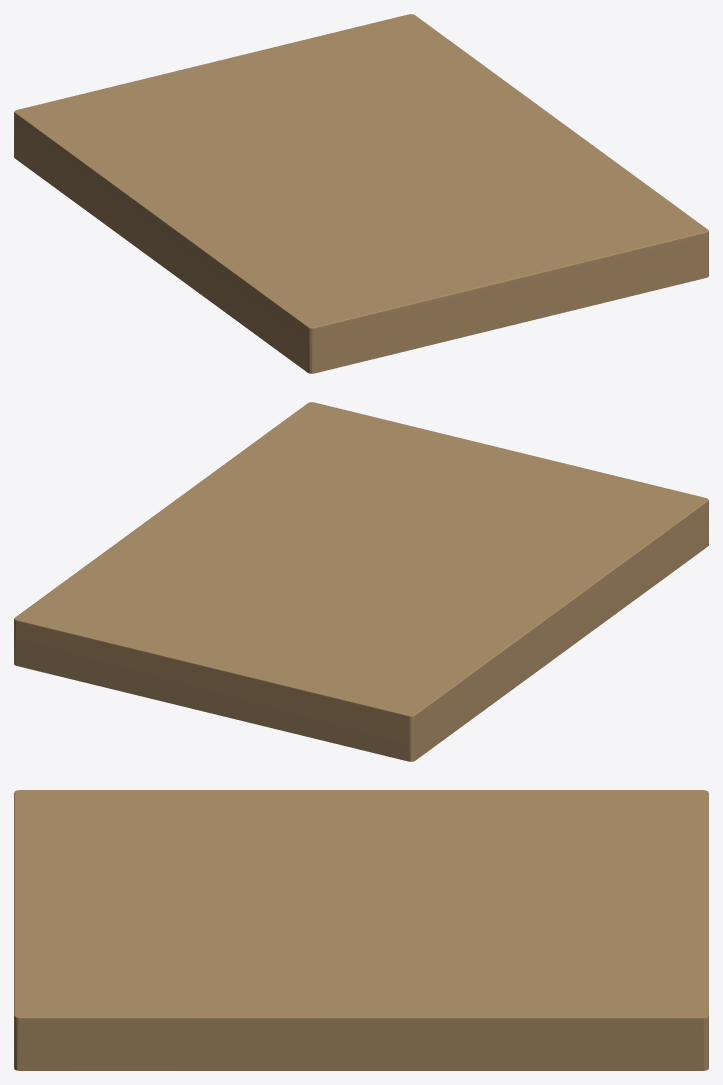
Rendered from BoatDock_Sand_UVMap.fbx.
The picture shows the model from 3 angles, top to bottom: view 1: azimuth 30°, elevation 25°; view 2: azimuth 150°, elevation 25°; view 3: azimuth 270°, elevation 25°; orthographic projection. The views are drawn at different scales.
Visible parts, largest first — view 1: Sand1; view 2: Sand1; view 3: Sand1.
Boxes of the visible parts, box(x1,y1,x2,y2) form: Sand1: box(14, 14, 708, 373); Sand1: box(14, 402, 708, 761); Sand1: box(14, 790, 708, 1070).
Bounding box in the file's own units: 5.43 × 0.5952 × 7.
